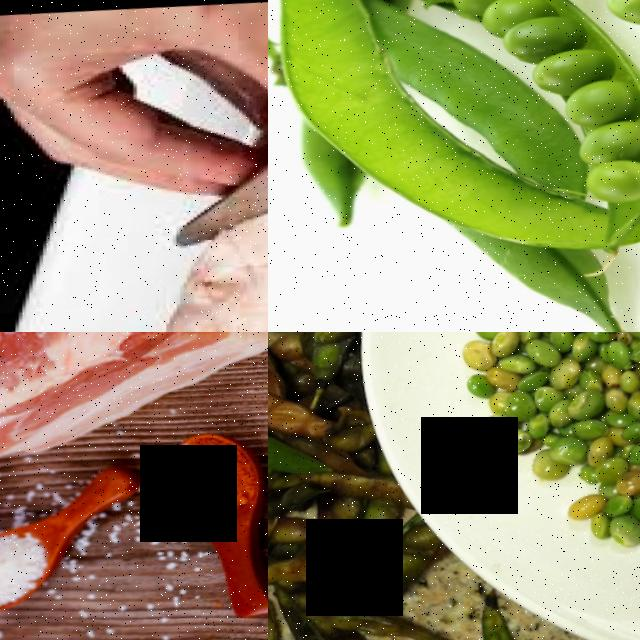peas: (463, 332, 640, 516), (522, 40, 640, 205), (405, 0, 640, 59)
pork belly: (0, 332, 268, 455), (54, 222, 268, 332), (229, 316, 235, 319)
